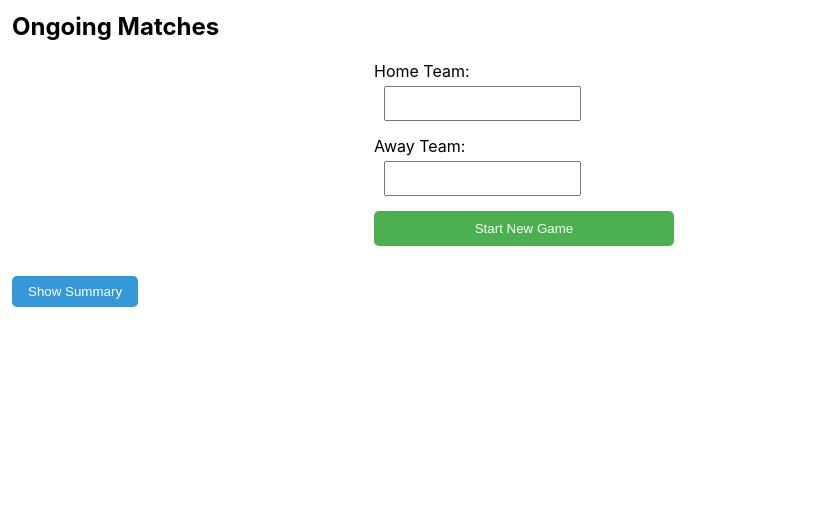
starts a new game
In the field labelled "Home Team:": (482, 104) 384,86 -> 581,121, type "Team A"
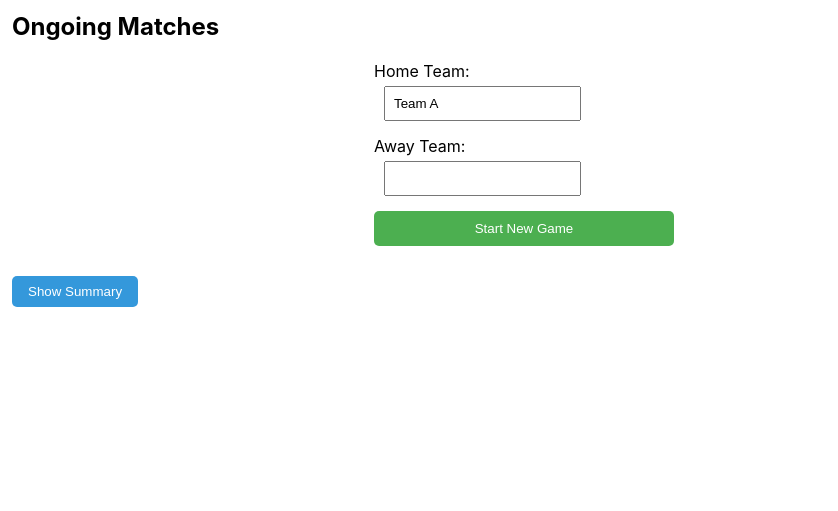
In the field labelled "Away Team:": (482, 178) 384,161 -> 581,196, type "Team B"
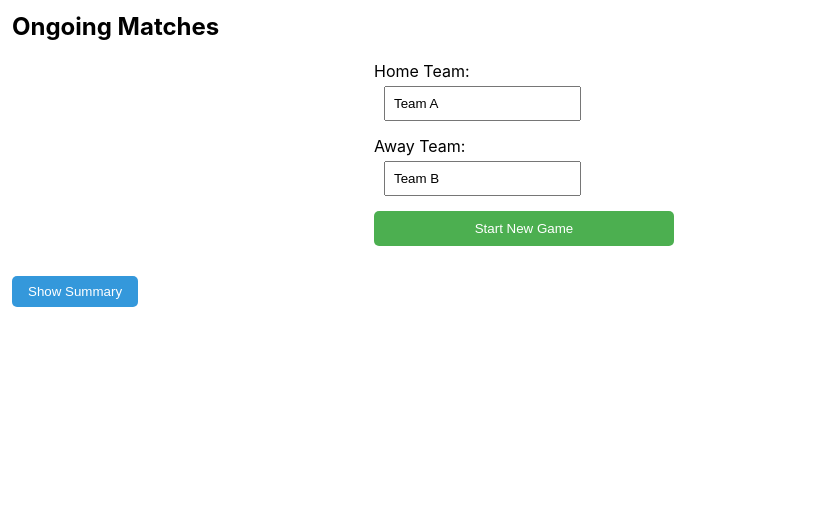
Click the button "Start New Game": (524, 228) 374,211 -> 674,246
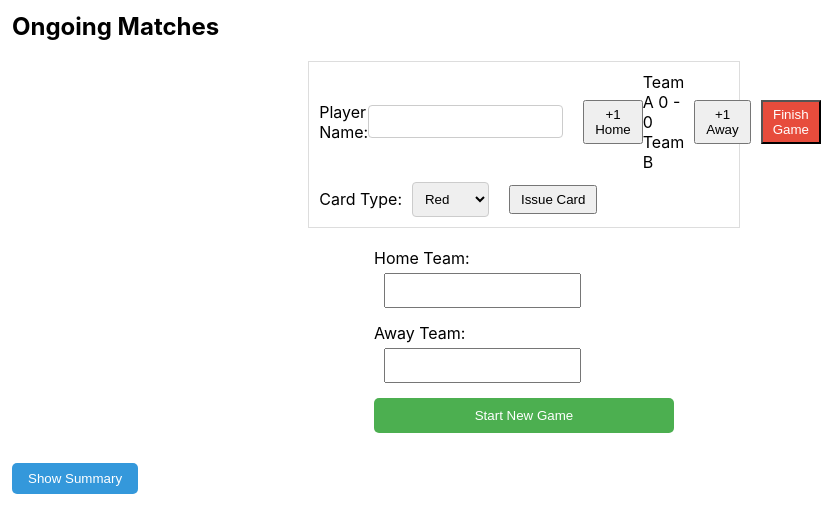
Result: the text "Team A 0 - 0 Team B" is shown at 643,72 -> 684,172
